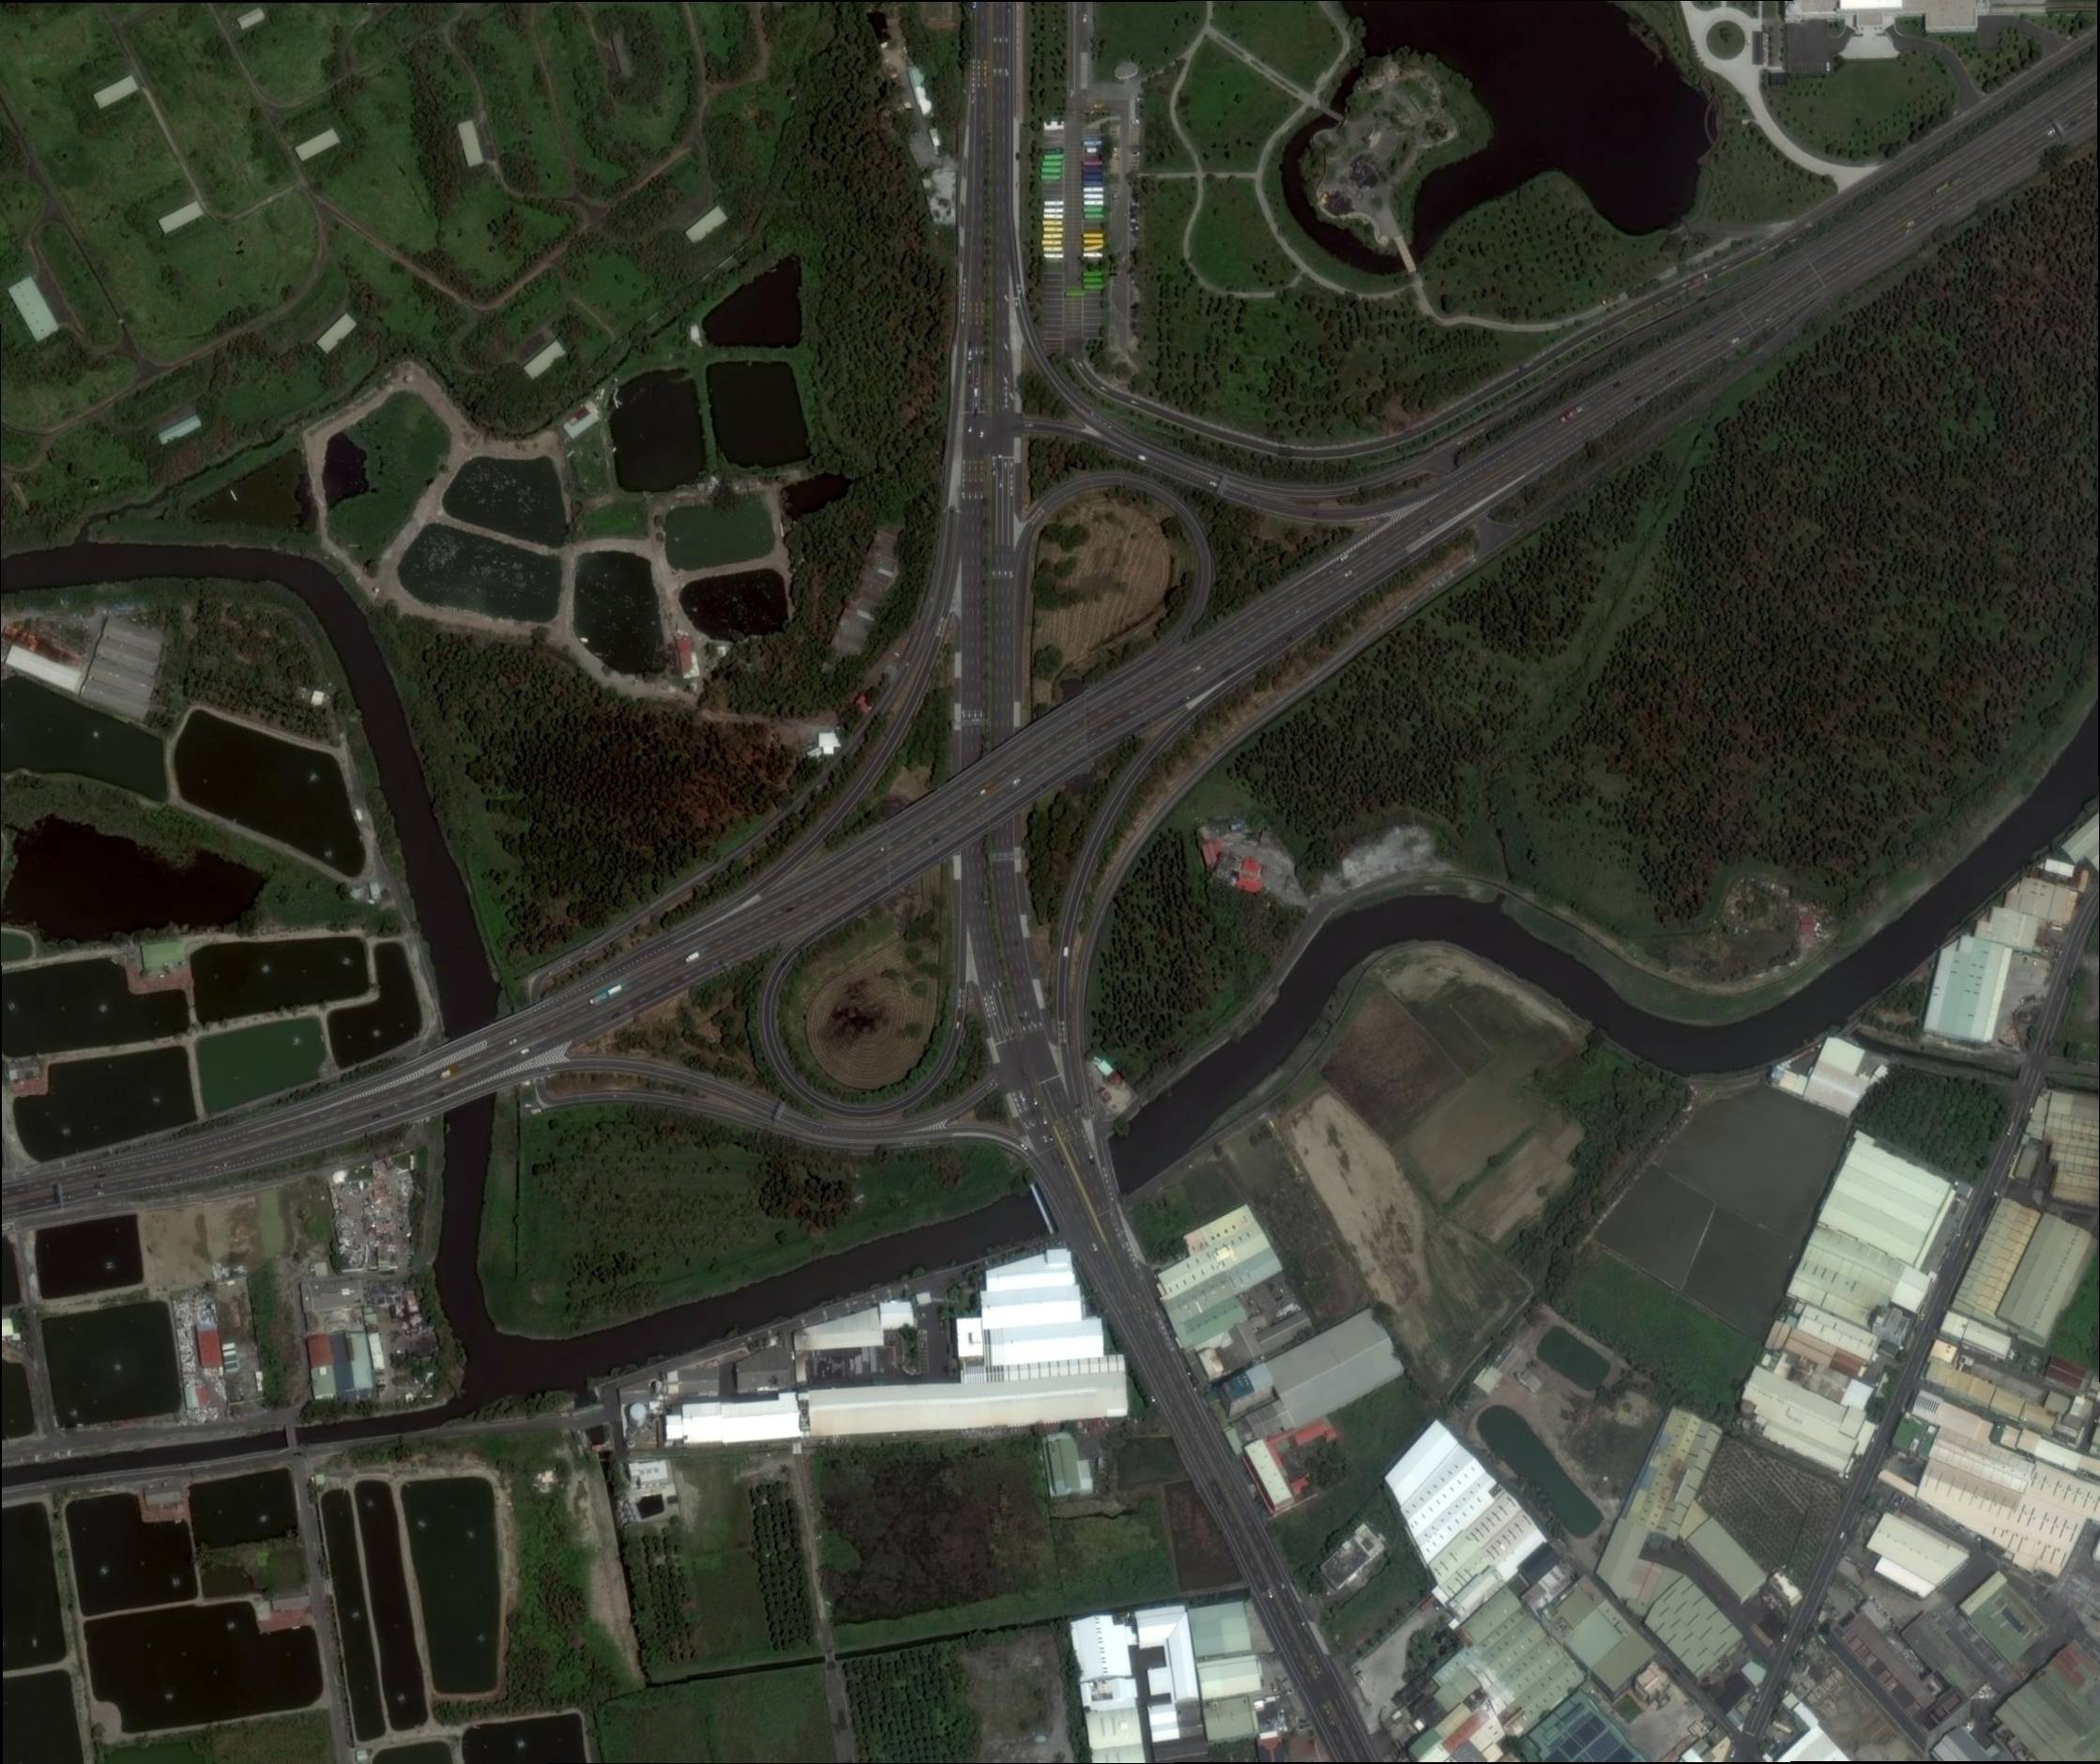bridge: (1036, 1143, 1134, 1228), (430, 1022, 516, 1108), (1398, 245, 1417, 275), (282, 1423, 299, 1447), (1326, 108, 1344, 124)
